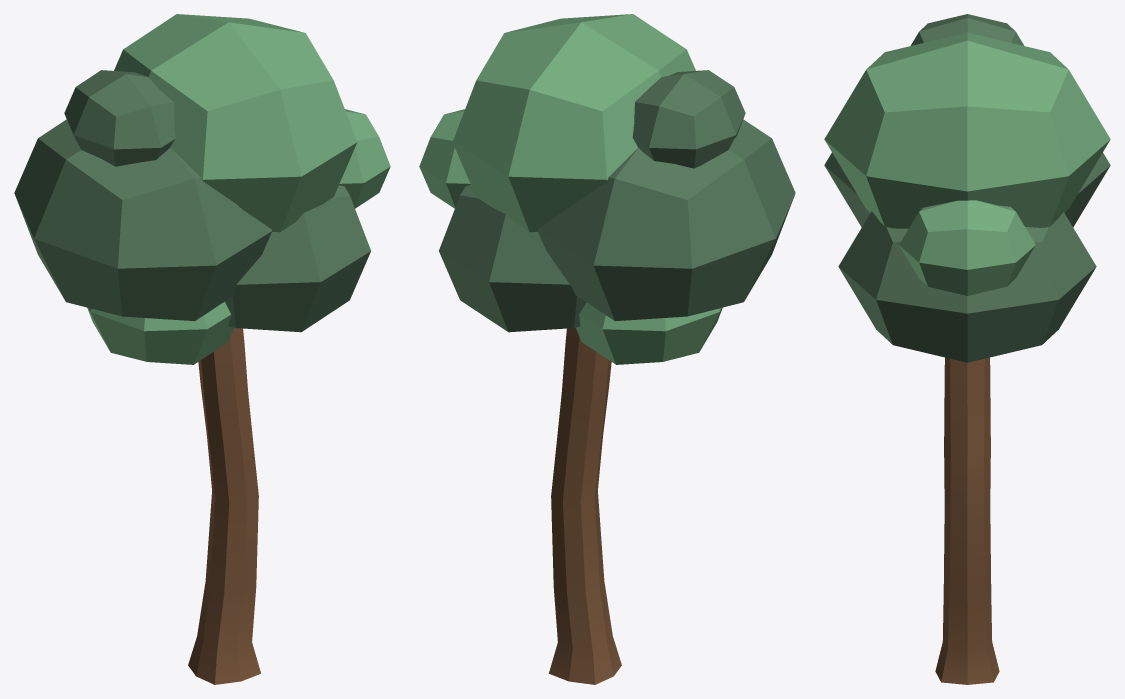
File: Tree_1.fbx
The picture shows the model from 3 angles, left to right: view 1: azimuth 30°, elevation 25°; view 2: azimuth 150°, elevation 25°; view 3: azimuth 270°, elevation 25°; orthographic projection. The views are drawn at different scales.
Visible parts, largest first — view 1: POLYSPHERE12; view 2: POLYSPHERE12; view 3: POLYSPHERE12.
Boxes of the visible parts, x1=… form: POLYSPHERE12: x1=14, y1=14, x2=390, y2=684; POLYSPHERE12: x1=419, y1=14, x2=795, y2=684; POLYSPHERE12: x1=824, y1=14, x2=1110, y2=684.
Size of the model in its own units: 115 by 204 by 83.81.
